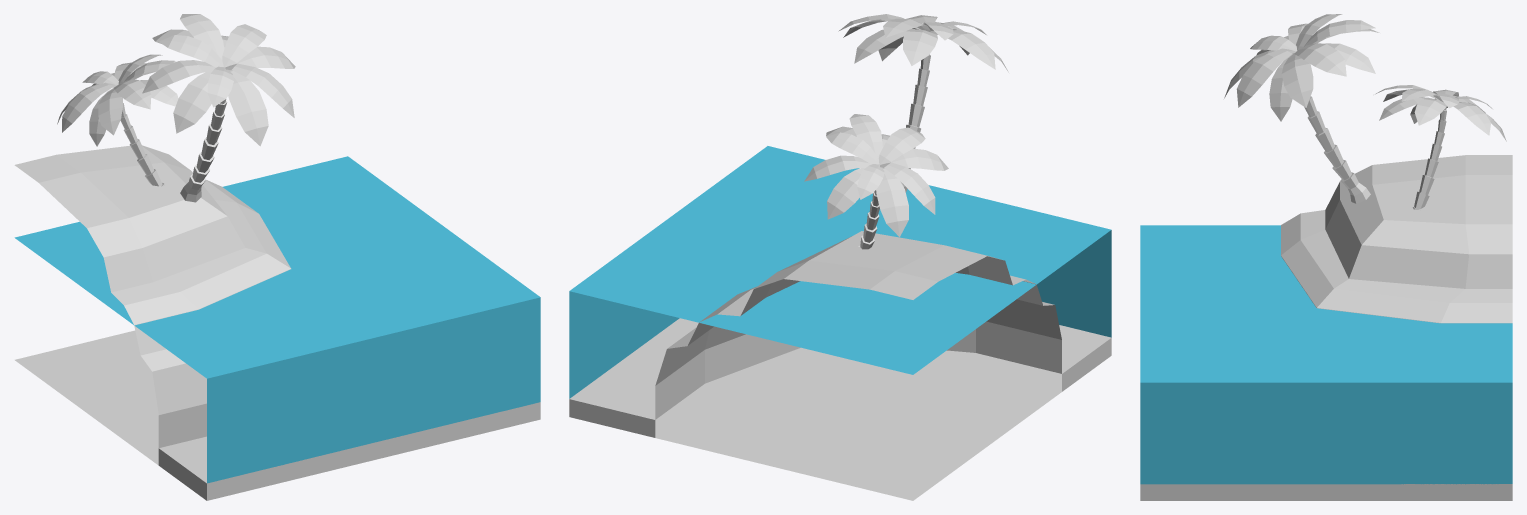
File: Corner2.fbx
3 views of the same model, side by side, from view 1: azimuth 30°, elevation 25°; view 2: azimuth 150°, elevation 25°; view 3: azimuth 270°, elevation 25° (orthographic). The views are drawn at different scales.
Visible parts, largest first — view 1: Corner2; view 2: Corner2; view 3: Corner2.
Boxes of the visible parts, <box> form: Corner2: <box>14,14,540,500</box>; Corner2: <box>569,14,1111,500</box>; Corner2: <box>1140,14,1512,500</box>.
Size of the model in its own units: 200 by 216 by 200.
